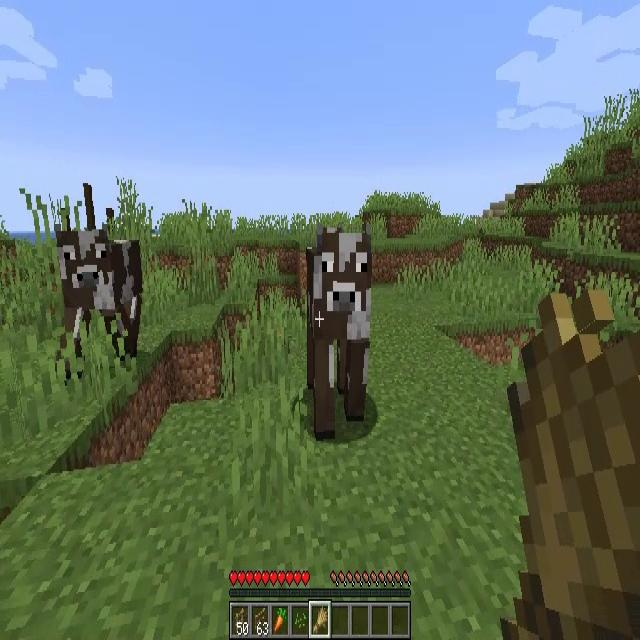cow: (306, 227, 370, 439), (58, 229, 139, 366)
